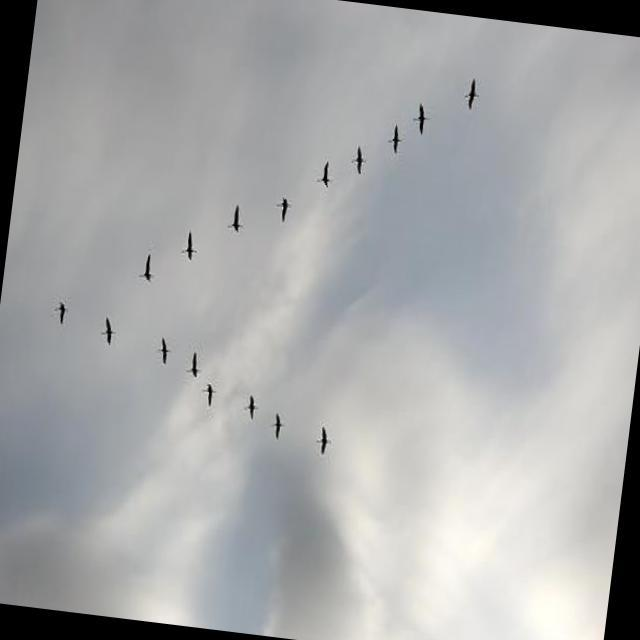bird: (137, 249, 159, 288), (178, 228, 201, 265), (410, 100, 432, 138), (270, 192, 293, 227), (312, 157, 336, 190), (97, 313, 119, 348), (225, 202, 247, 236), (461, 77, 482, 112), (349, 142, 370, 177), (313, 422, 334, 457), (183, 348, 205, 381), (385, 121, 405, 156), (153, 334, 174, 367), (240, 390, 261, 423), (50, 296, 71, 328), (268, 409, 287, 444), (199, 379, 218, 408)
